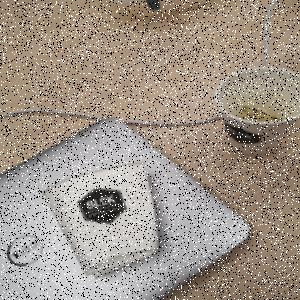Cup: (42, 161, 162, 281), (215, 67, 300, 159)
